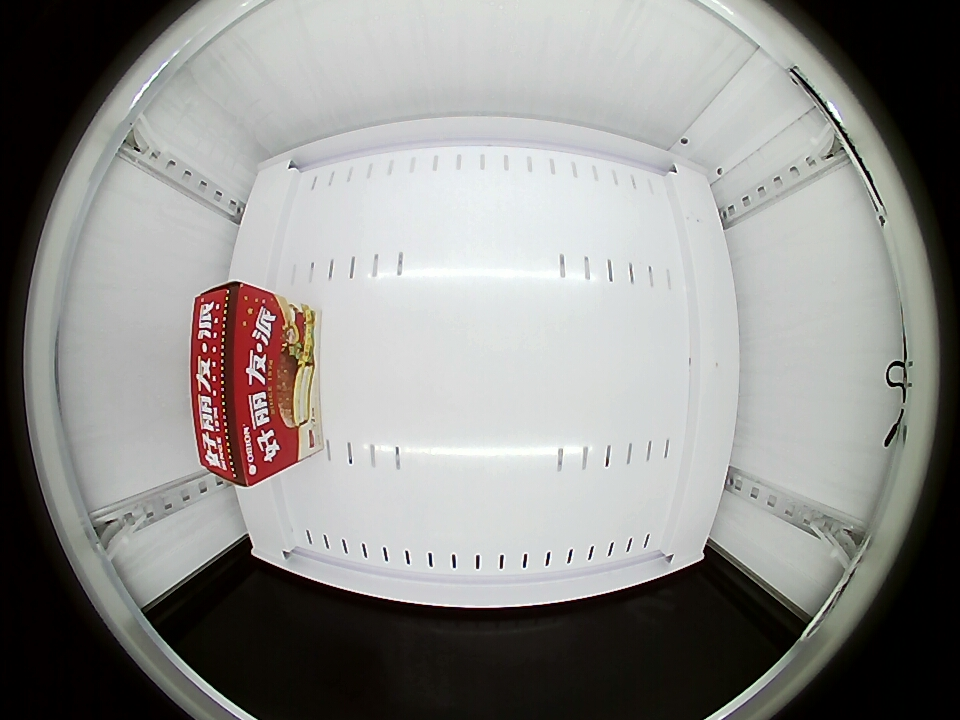haoliyou: (191, 282, 299, 488)
